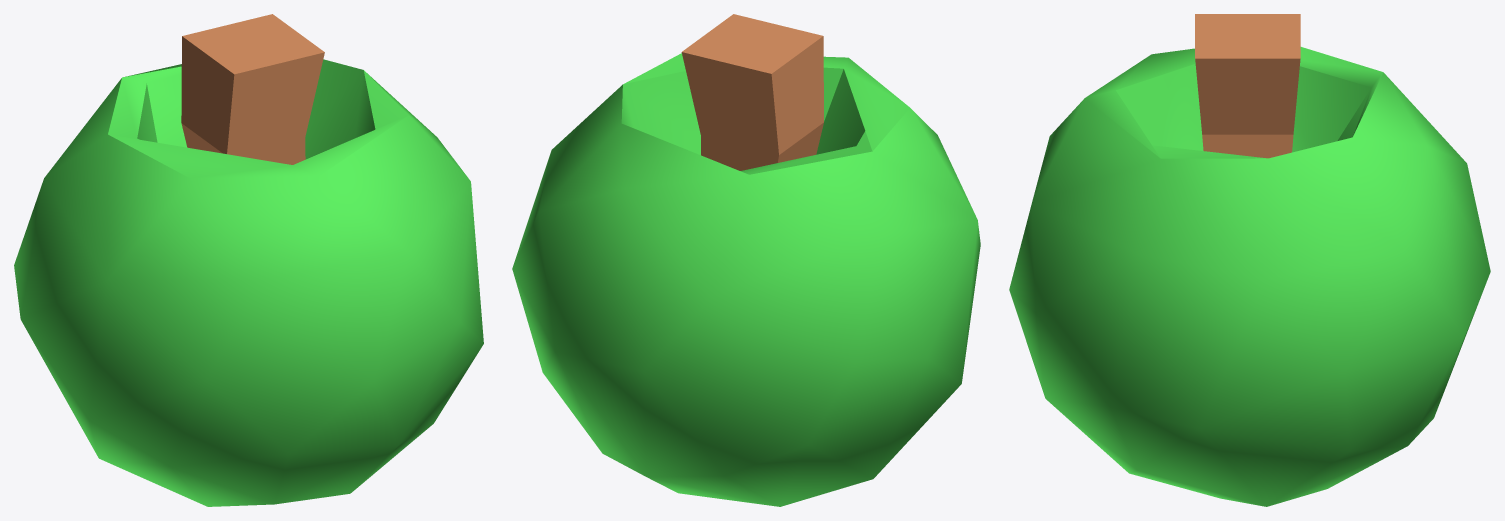
Rendered from Apple_C.fbx.
The picture shows the model from 3 angles, left to right: view 1: azimuth 30°, elevation 25°; view 2: azimuth 150°, elevation 25°; view 3: azimuth 270°, elevation 25°; orthographic projection.
Visible parts, largest first — view 1: Apple_C; view 2: Apple_C; view 3: Apple_C.
Boxes of the visible parts, x1,y1,x2,y2 form: Apple_C: (14,14,483,506); Apple_C: (512,14,980,506); Apple_C: (1009,14,1490,506).
Bounding box in the file's own units: 43.61 × 45.87 × 45.01.
